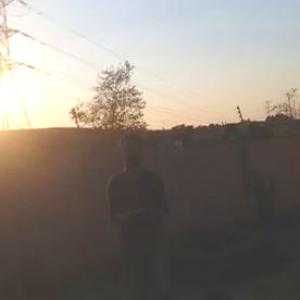follow: (99, 129, 175, 299)
